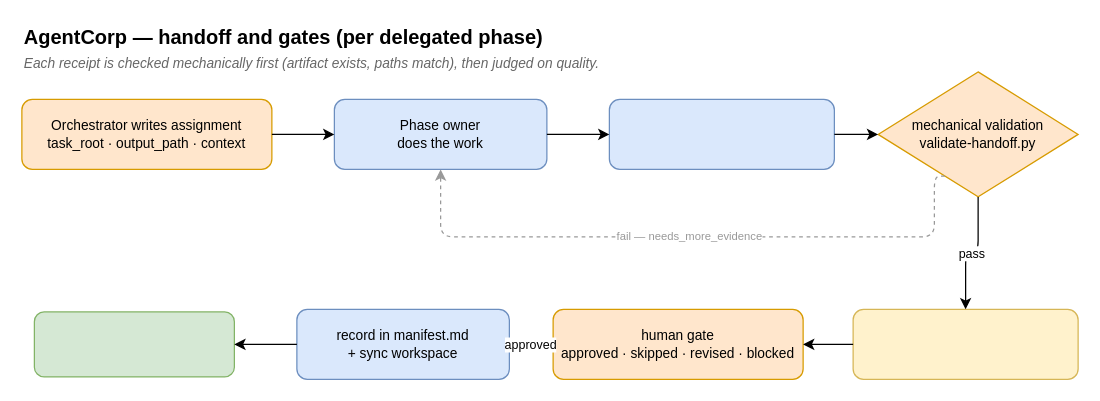
The diagram is 1100 pixels wide and 401 high, and some of its shapes have lost their labels. Here are the shapes that lost their labels. From the top down, the centre of each, then its label:
At point (721, 133): "returns receipt + artifact at output_path".
At point (133, 344): "next phase / deliver".
At point (965, 343): "quality gate phase-specific evidence".
